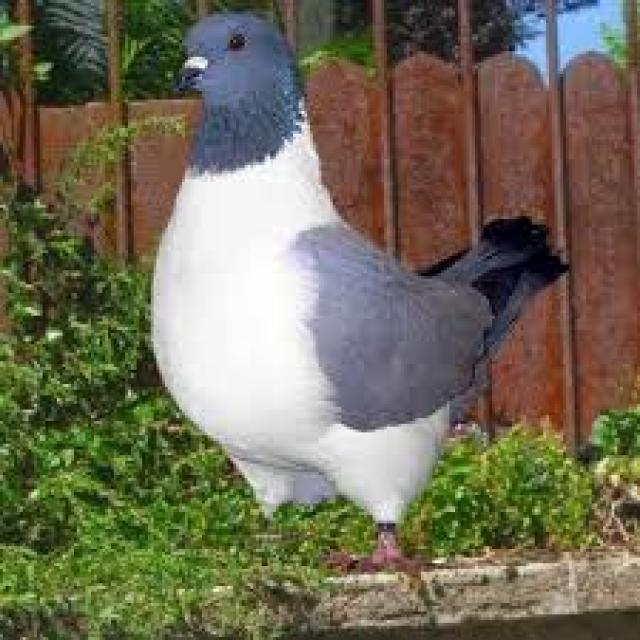pigeon: (118, 0, 558, 587)
